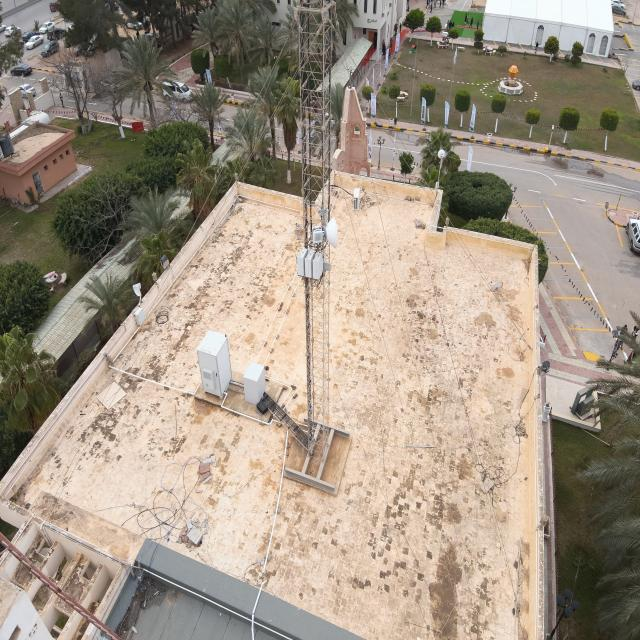microware-dish: (311, 215, 338, 249)
power-box: (296, 246, 324, 281)
